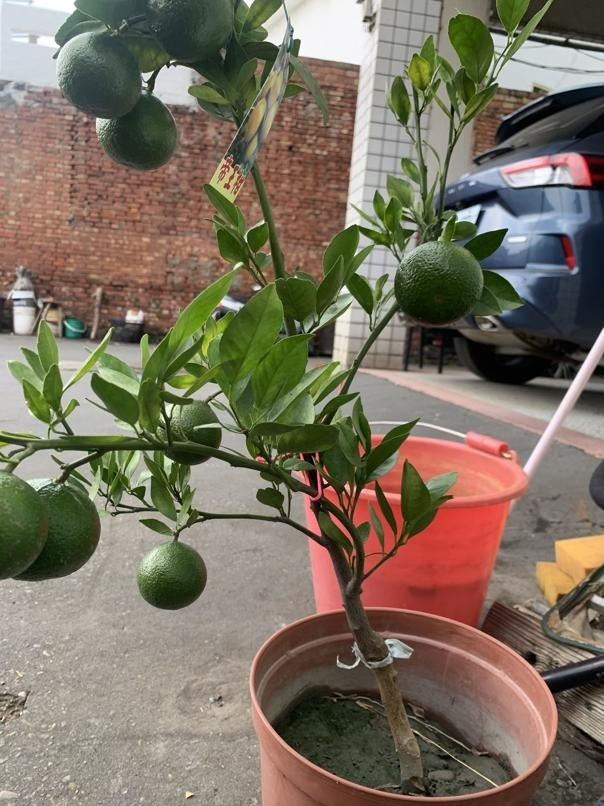Tangerine: (60, 26, 152, 121), (393, 237, 483, 325), (133, 534, 209, 611), (493, 0, 534, 28)
